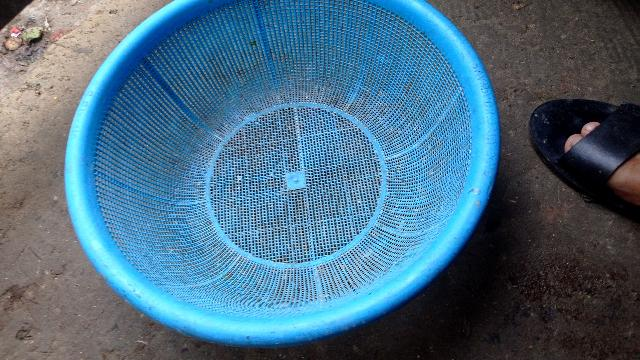hardplastic: (51, 0, 487, 342)
